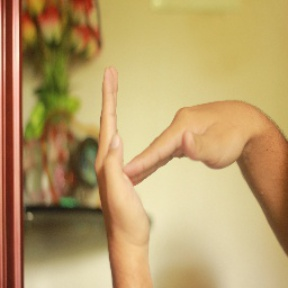Z: (92, 56, 243, 244)
